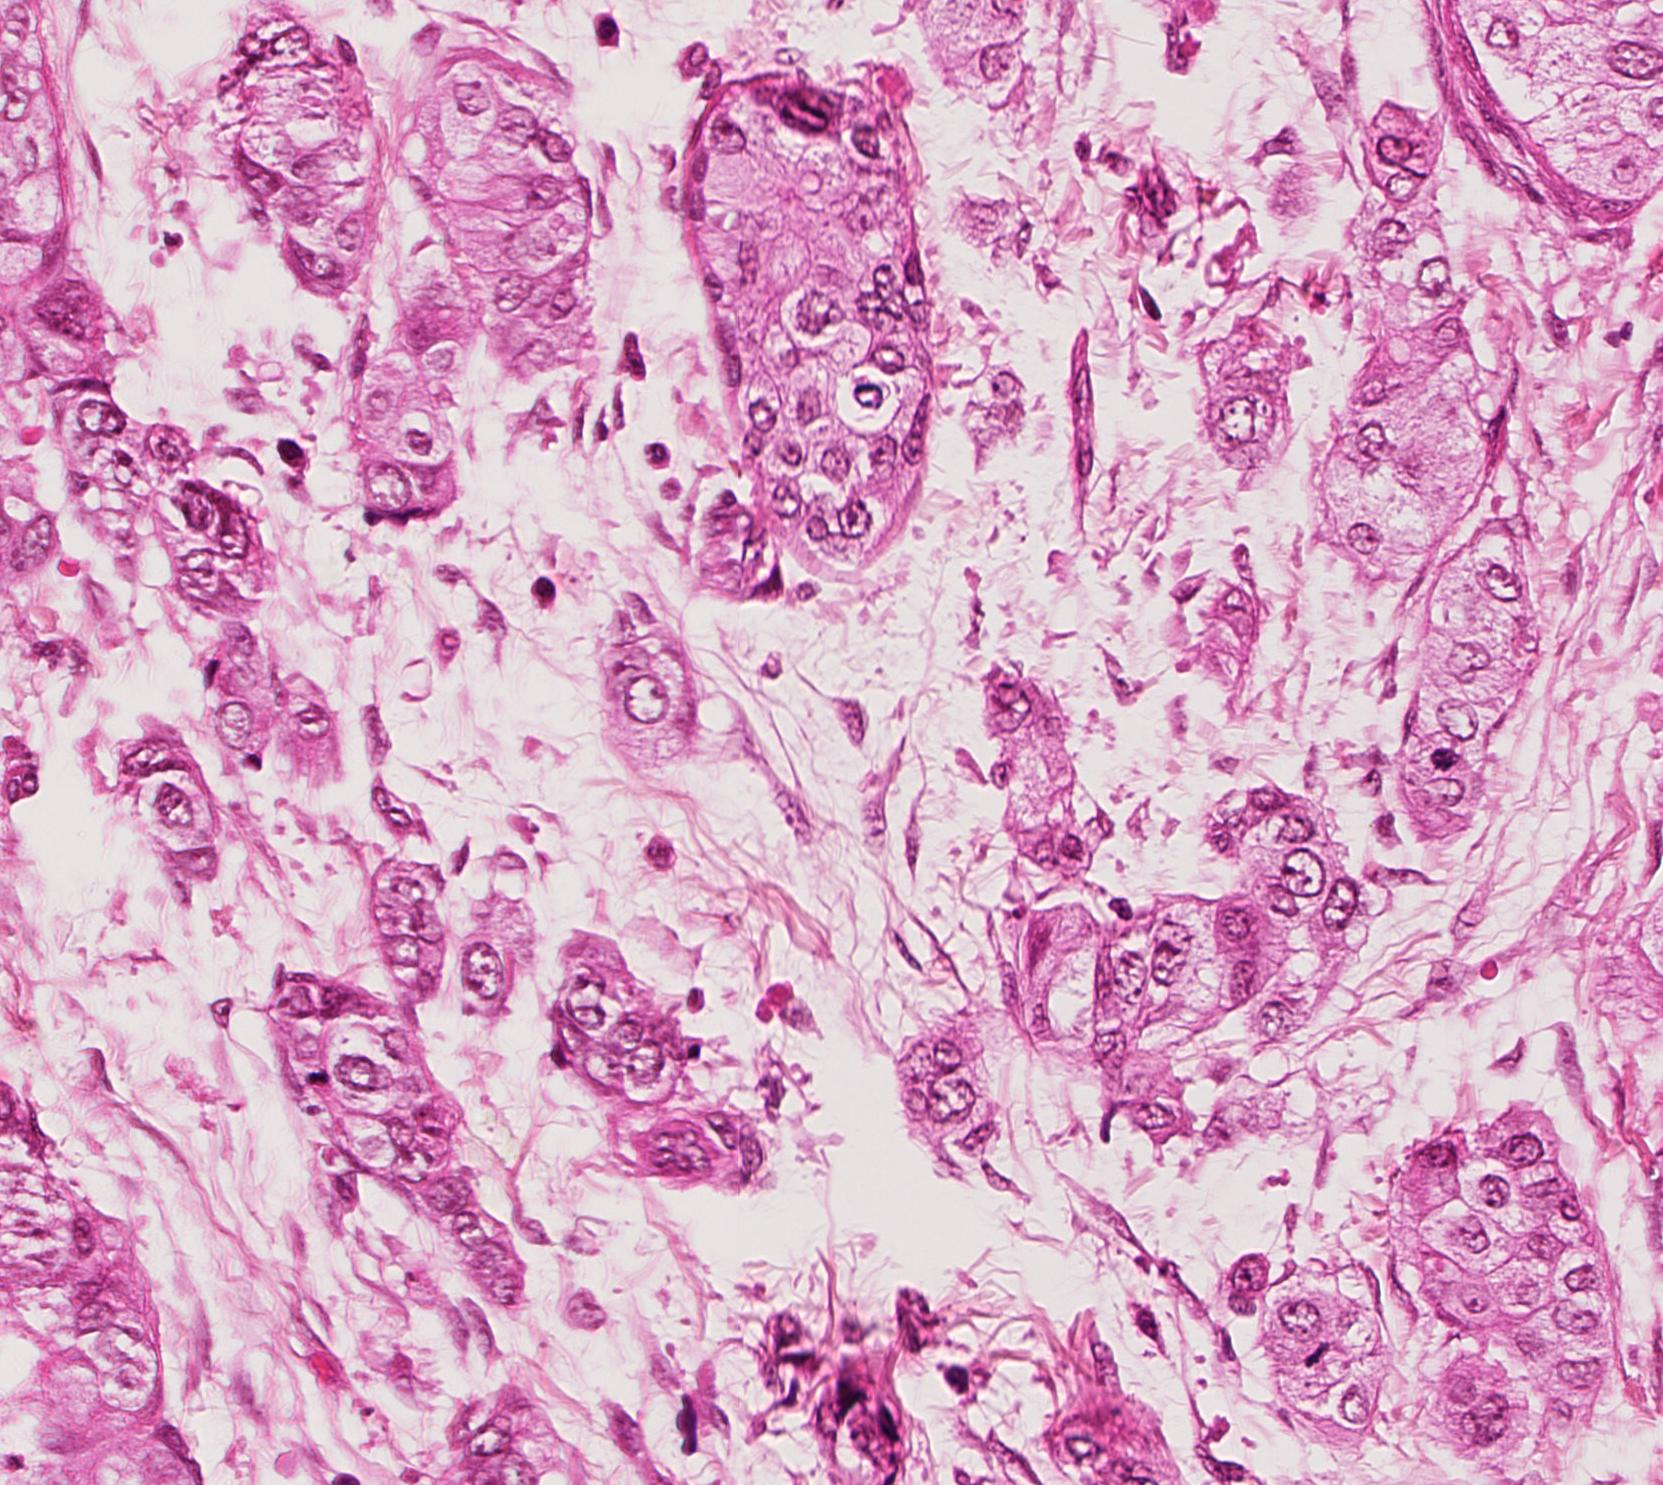mitosis: (1412, 730, 1472, 790), (1287, 1324, 1348, 1385)
